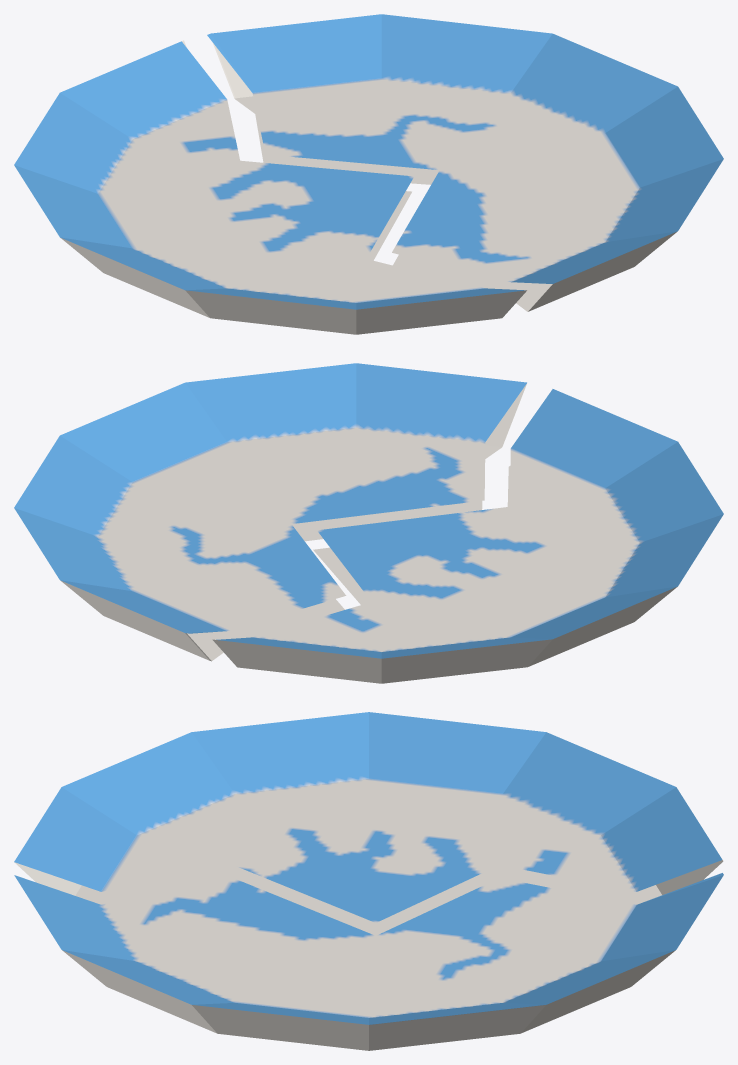
File: broken_plate.glb
3 renders of one model, top to bottom at view 1: azimuth 30°, elevation 25°; view 2: azimuth 150°, elevation 25°; view 3: azimuth 270°, elevation 25°, orthographic. The views are drawn at different scales.
Visible parts, largest first — view 1: Plate, Plate.001; view 2: Plate, Plate.001; view 3: Plate.001, Plate.
Boxes of the visible parts, x1=… form: Plate: x1=207, y1=14, x2=723, y2=311; Plate.001: x1=14, y1=40, x2=526, y2=334; Plate: x1=14, y1=363, x2=526, y2=661; Plate.001: x1=212, y1=389, x2=723, y2=683; Plate.001: x1=14, y1=712, x2=723, y2=935; Plate: x1=14, y1=873, x2=723, y2=1050.
Bounding box in the file's own units: 1.04 × 0.0747 × 1.
Materials: 1 (1 with a texture image).
